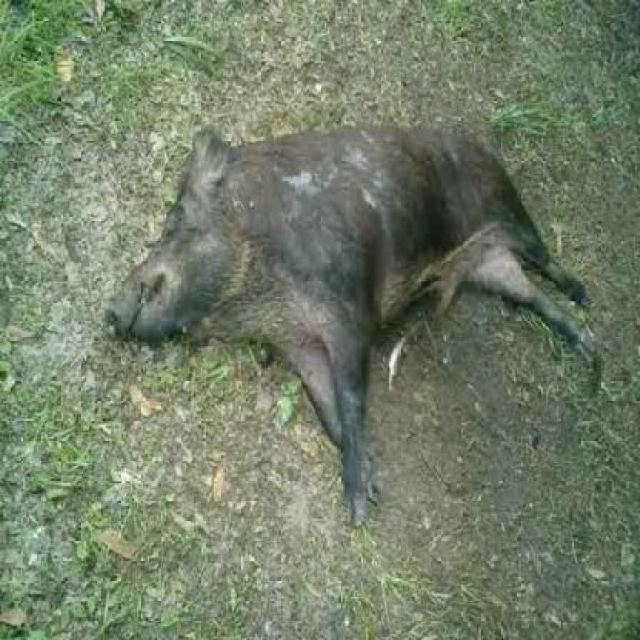Boar: (82, 114, 586, 478)
